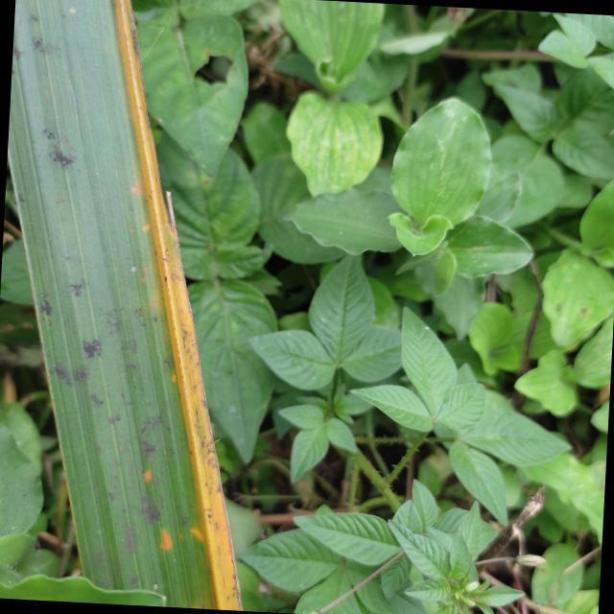Megnesium: (0, 0, 243, 614)
